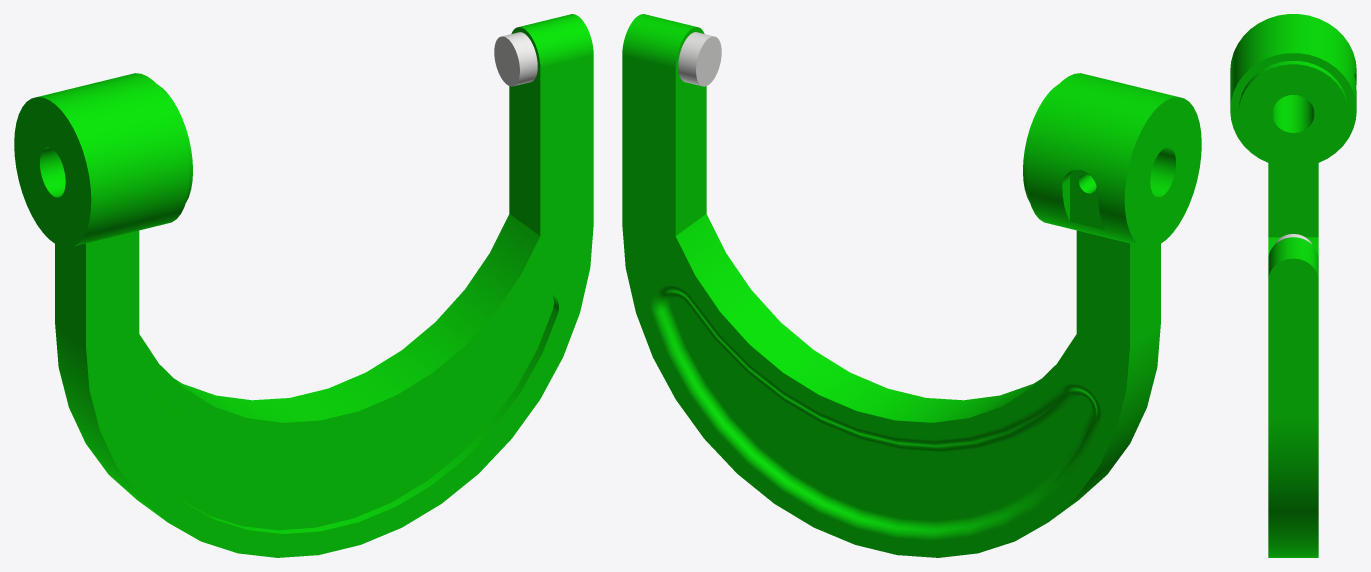
File: U_Frame.glb
3 renders of one model, left to right at view 1: azimuth 30°, elevation 25°; view 2: azimuth 150°, elevation 25°; view 3: azimuth 270°, elevation 25°, orthographic. The views are drawn at different scales.
Visible parts, largest first — view 1: U-Frame; view 2: U-Frame; view 3: U-Frame.
Boxes of the visible parts, x1=… form: U-Frame: x1=14, y1=14, x2=593, y2=557; U-Frame: x1=622, y1=14, x2=1201, y2=557; U-Frame: x1=1230, y1=14, x2=1356, y2=557.
Size of the model in its own units: 0.059 by 0.0539 by 0.015.
